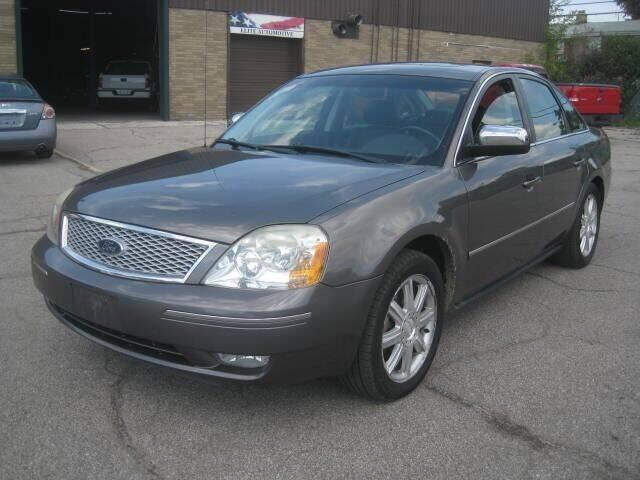windshield: (208, 69, 474, 175)
